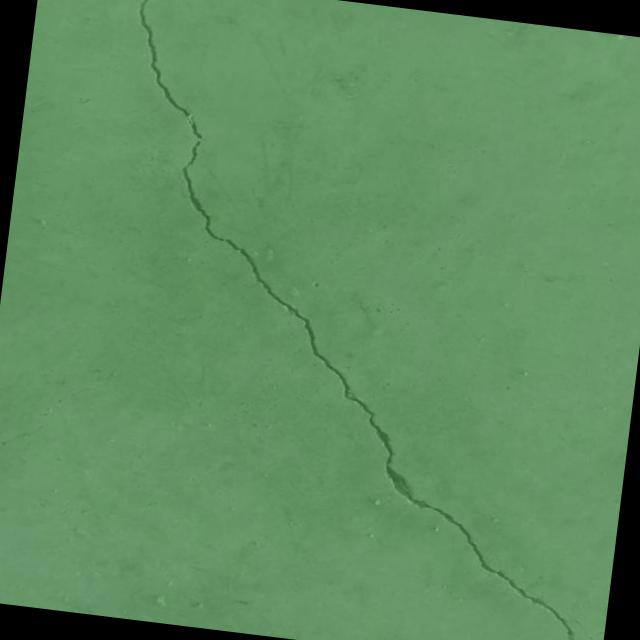crack: (27, 0, 640, 640), (0, 406, 47, 466)
